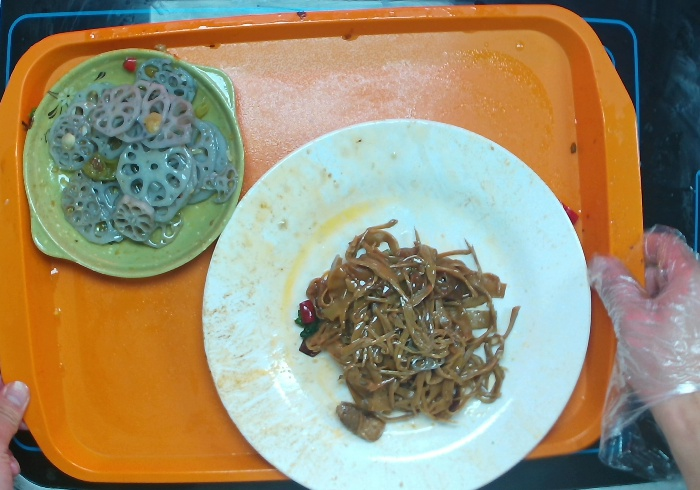NLDX-Da_Yuan_Pan: (197, 114, 594, 490)
NLDX-Lv_Hua_Shuang_Er_Die: (18, 43, 253, 285)
